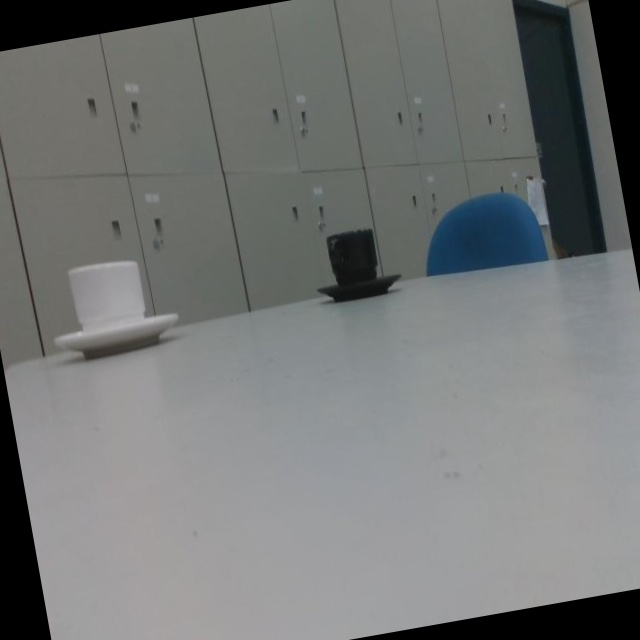black: (312, 228, 399, 301)
white: (47, 256, 178, 356)
